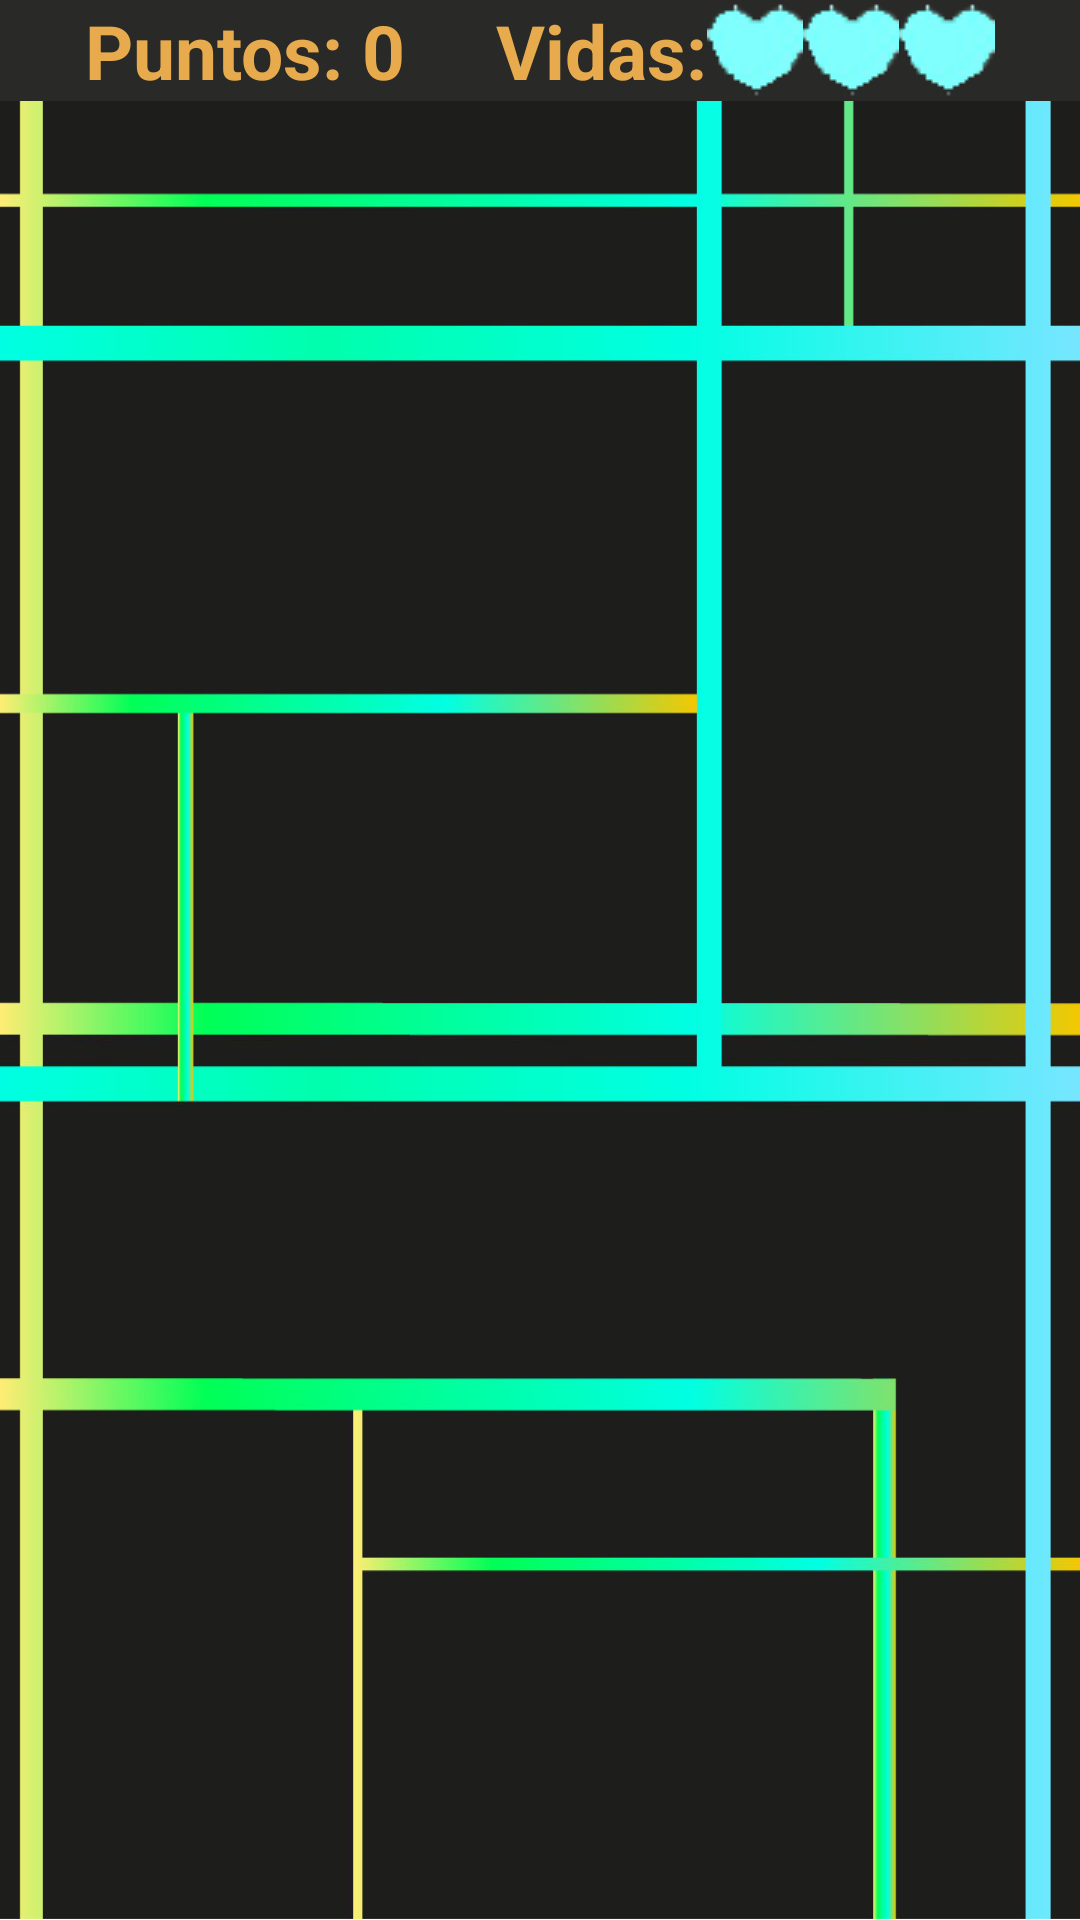

Where to tap for icons on this 1080 x 1920 app screen, as (x,y):
corazon: (755,50), (851,50), (947,50)
